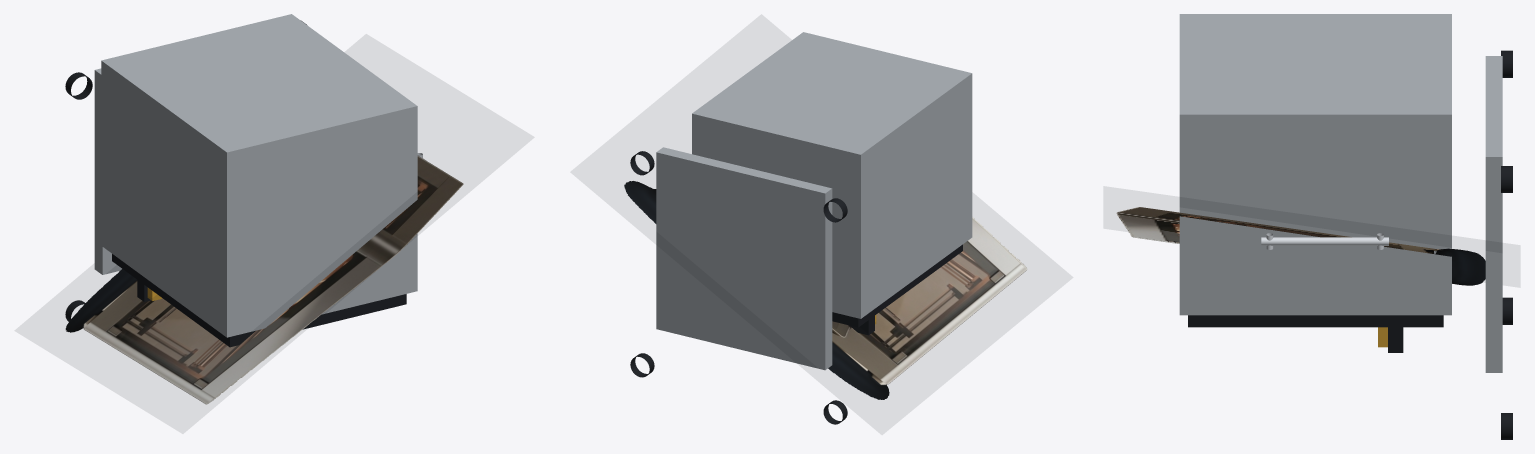
The model's file is deltrol_p2s_reference_locked_2p5d.glb.
3 renders of one model, left to right at view 1: azimuth 30°, elevation 25°; view 2: azimuth 150°, elevation 25°; view 3: azimuth 270°, elevation 25°, orthographic. The views are drawn at different scales.
Parts seen in each view (by area): view 1: chassis_depth_backing, reflocked_hero_billboard, interior_cavity_dark, base_plinth_ground; view 2: chassis_depth_backing, base_plinth_ground, reflocked_hero_billboard, interior_cavity_dark; view 3: chassis_depth_backing, base_plinth_ground, reflocked_hero_billboard, interior_cavity_dark, door_handle, bed_heater_block.
Boxes of the visible parts, bbox=[...] form: chassis_depth_backing: bbox=[101, 14, 417, 337]; reflocked_hero_billboard: bbox=[65, 155, 463, 404]; interior_cavity_dark: bbox=[112, 254, 406, 347]; base_plinth_ground: bbox=[94, 68, 121, 274]; chassis_depth_backing: bbox=[692, 32, 972, 318]; base_plinth_ground: bbox=[656, 147, 832, 370]; reflocked_hero_billboard: bbox=[624, 181, 1027, 399]; interior_cavity_dark: bbox=[832, 244, 962, 327]; chassis_depth_backing: bbox=[1179, 14, 1451, 315]; base_plinth_ground: bbox=[1485, 56, 1502, 372]; reflocked_hero_billboard: bbox=[1116, 207, 1485, 285]; interior_cavity_dark: bbox=[1188, 315, 1443, 327]; door_handle: bbox=[1261, 237, 1388, 245]; bed_heater_block: bbox=[1388, 327, 1403, 352].
Bounding box in the file's own units: 0.557 × 0.4016 × 0.4911.
8 materials, 8 textured.
